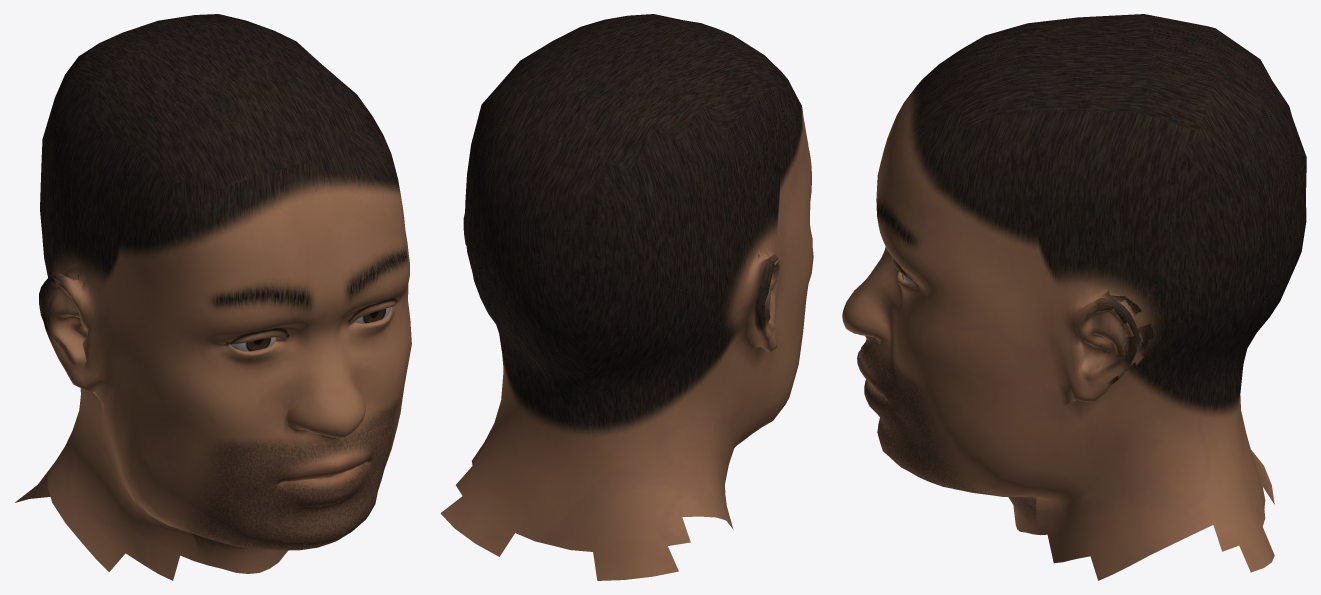
Rendered from head_heng.glb.
3 renders of one model, left to right at view 1: azimuth 30°, elevation 25°; view 2: azimuth 150°, elevation 25°; view 3: azimuth 270°, elevation 25°, orthographic. The views are drawn at different scales.
Parts seen in each view (by area): view 1: mixamorigHead__head, mixamorigHead__eyes; view 2: mixamorigHead__head; view 3: mixamorigHead__head.
Part boxes in pixels (x1=…): mixamorigHead__head: x1=15, y1=14, x2=411, y2=580; mixamorigHead__eyes: x1=230, y1=307, x2=390, y2=351; mixamorigHead__head: x1=440, y1=14, x2=813, y2=580; mixamorigHead__head: x1=842, y1=14, x2=1306, y2=580.
Bounding box in the file's own units: 18.37 × 26.72 × 22.89.
2 materials, 2 textured.
